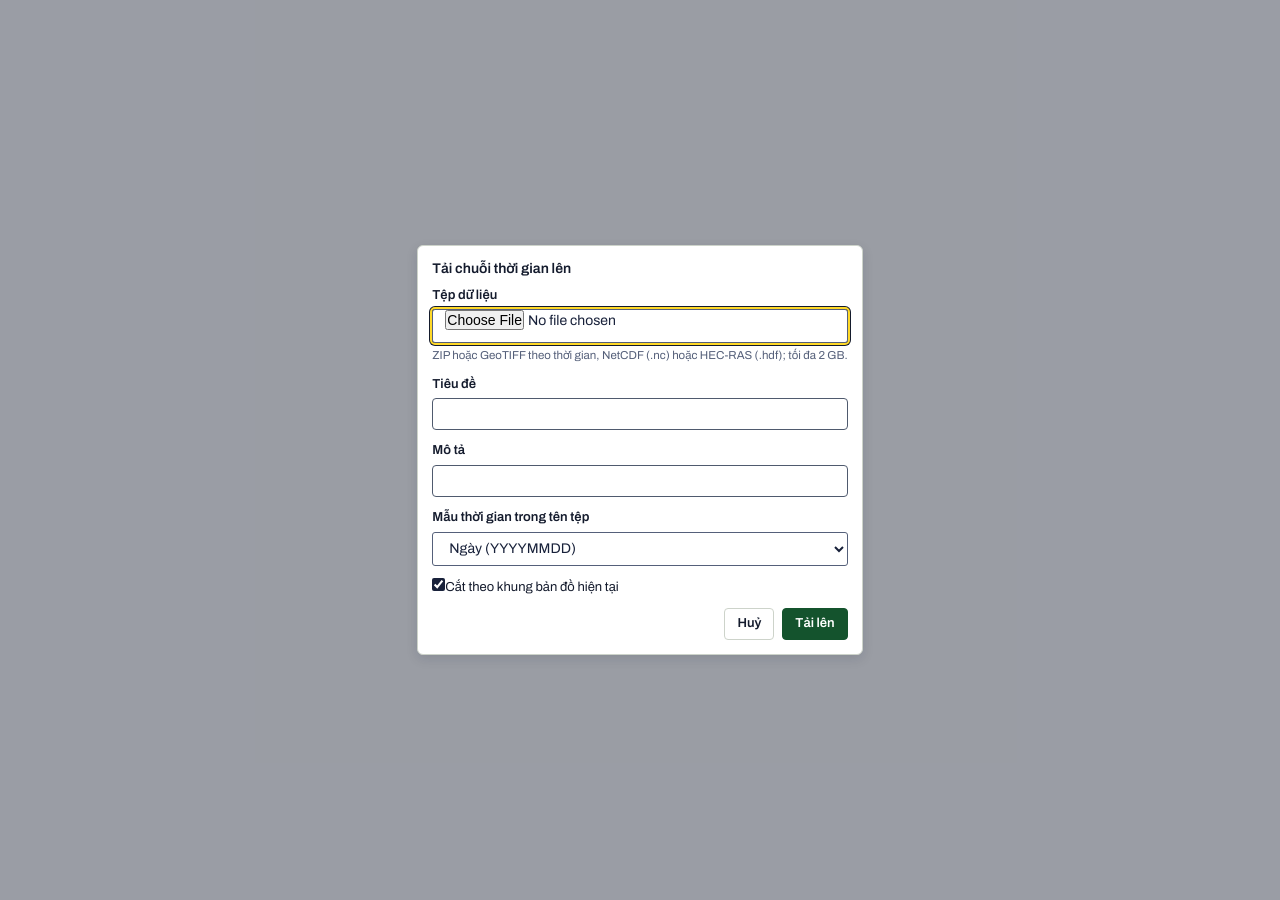
Test: TimeseriesUploadDialog › requires a title
Earlier steps of the test are not shown.
Click the button "Tải lên" at (815, 624), box [782,608,848,640]
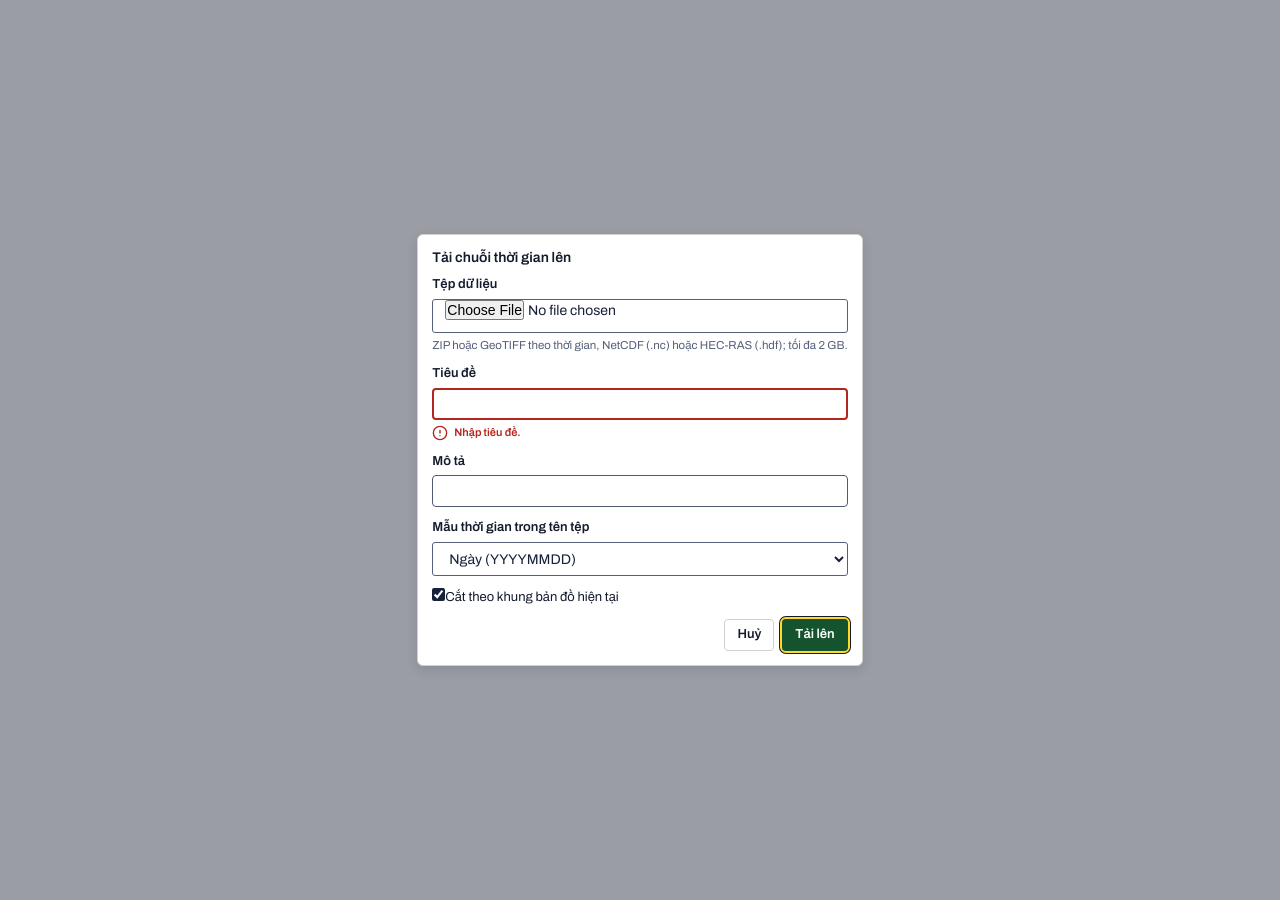
expect the text "Nhập tiêu đề." is shown: met, box [432,425,521,441]
